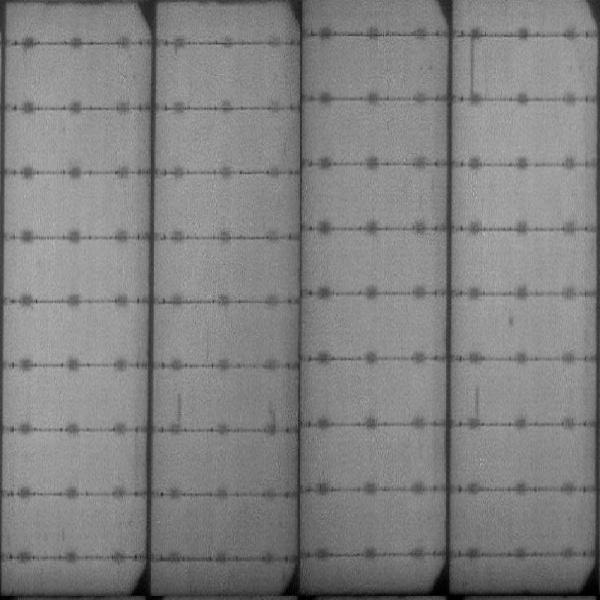scratch: (464, 37, 478, 101), (171, 387, 191, 429), (265, 401, 283, 432), (473, 382, 483, 421)
